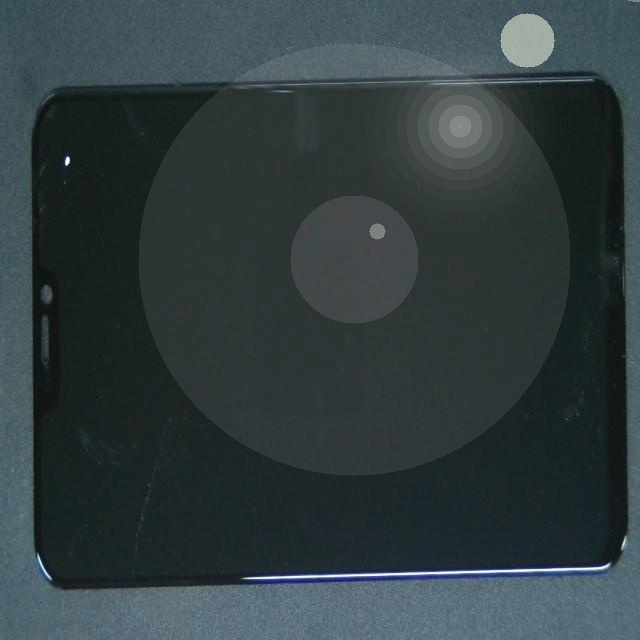stain: (41, 31, 88, 218)
